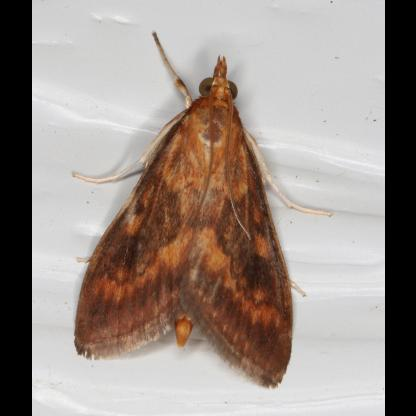Asian Corn Borer Moth: (69, 29, 336, 392)
